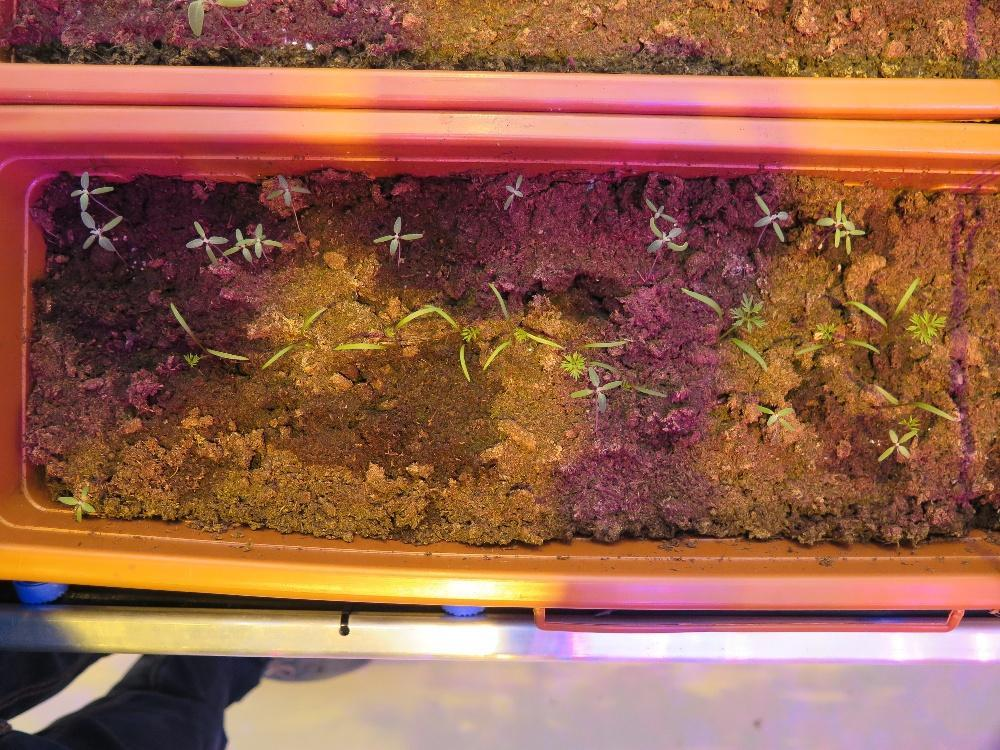weed: (371, 213, 424, 255), (67, 168, 113, 211), (78, 210, 122, 252), (752, 193, 787, 242), (55, 482, 97, 521), (264, 172, 310, 206), (876, 427, 917, 462), (751, 402, 795, 433), (502, 172, 523, 210)
